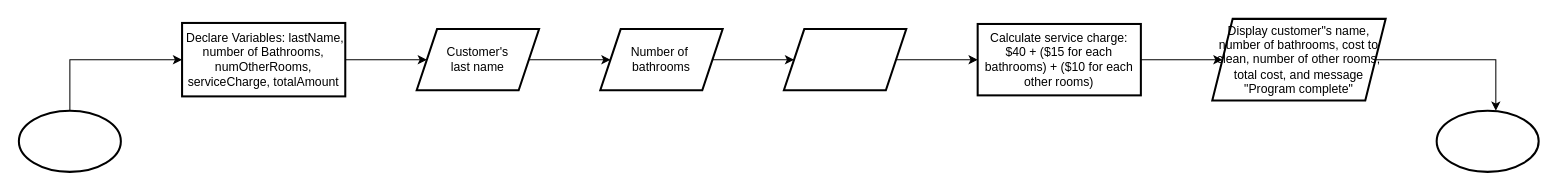
Image size: 1557x190. Some labels were removed from this diagram. The centre of each missing label's shape, as x and y in pixels:
"End" belongs at (1487,140).
"Number of other rooms" belongs at (844,59).
"Start" belongs at (69,140).
